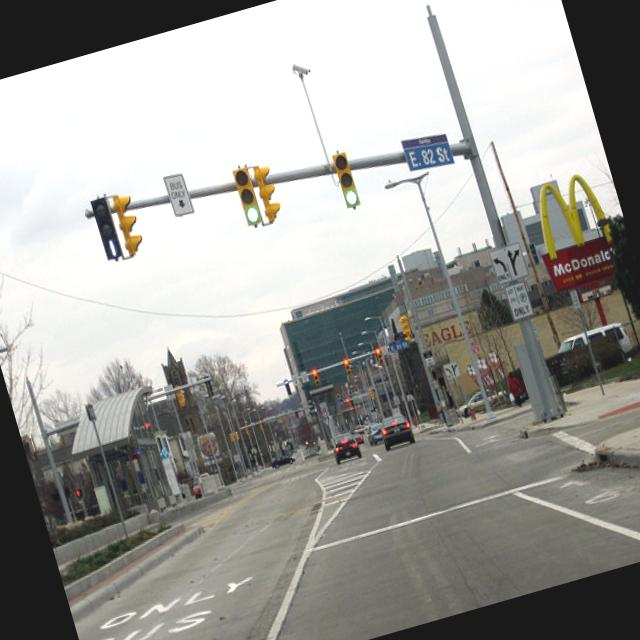Vehicle: (554, 318, 634, 371), (376, 412, 416, 451), (456, 386, 500, 418), (330, 435, 361, 464), (188, 471, 214, 499), (268, 452, 300, 471), (364, 422, 387, 446), (353, 432, 364, 444), (353, 424, 364, 436)
